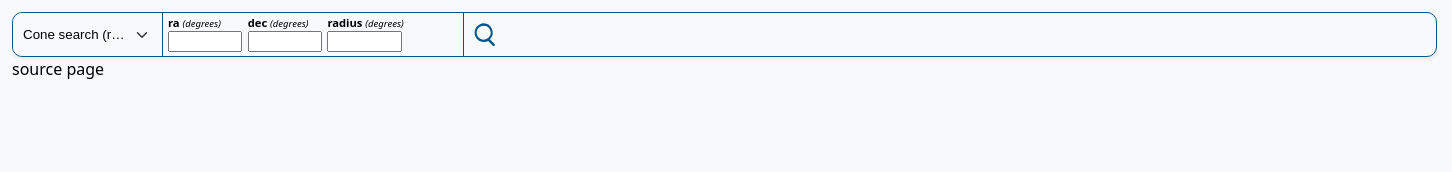
Scenario: Search - cone search › moves the map to the cone and goes home instead of opening a results page
This screenshot has width=1452, height=172.
In the field labelled "ra (degrees)": (205, 41) left=168, top=31, right=242, bottom=52, type "83.633"
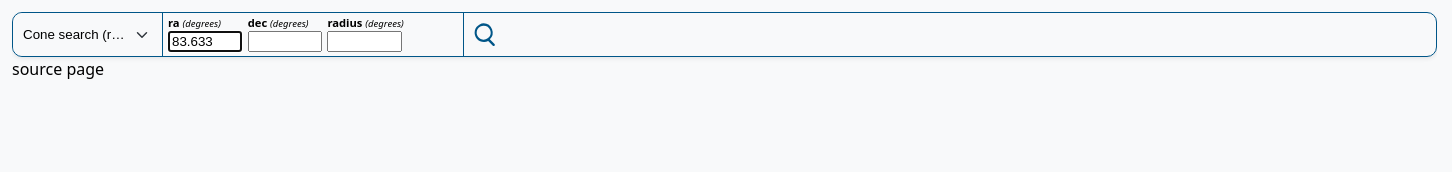
In the field labelled "dec (degrees)": (285, 41) left=248, top=31, right=322, bottom=52, type "22.014"
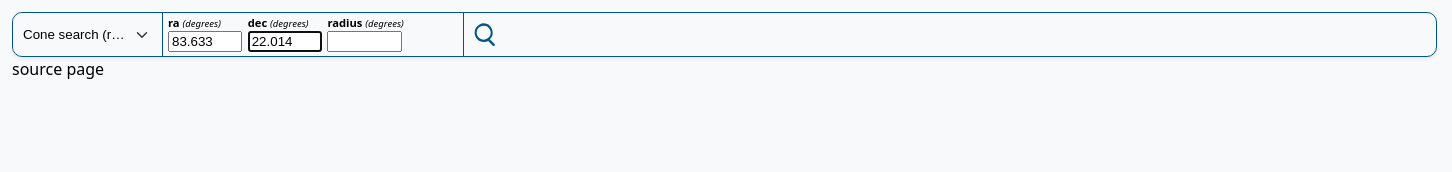
In the field labelled "radius (degrees)": (364, 41) left=327, top=31, right=402, bottom=52, type "0.5"
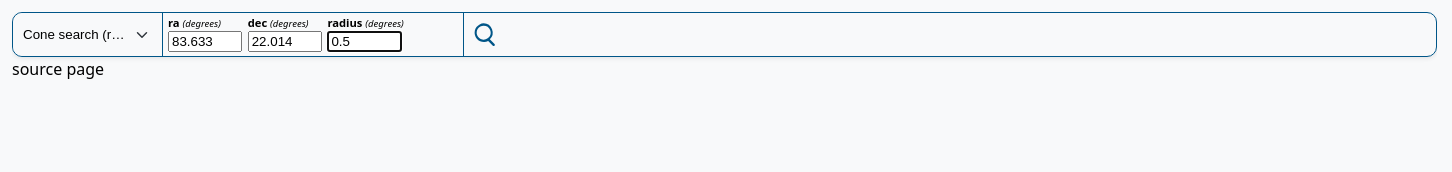
Click the button named "Search": (486, 34) left=463, top=13, right=508, bottom=56
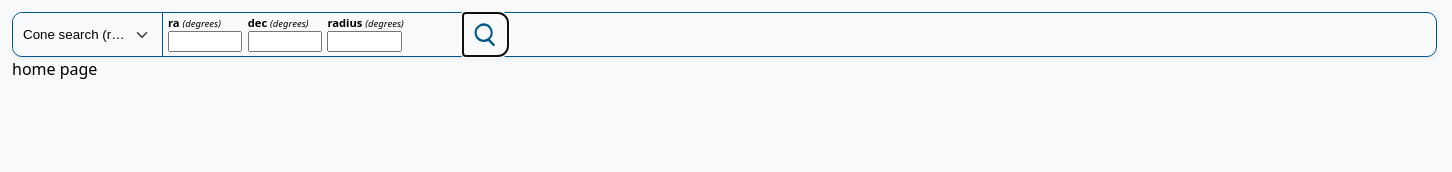
expect the text "home page" is shown: met, box left=12, top=58, right=97, bottom=80
